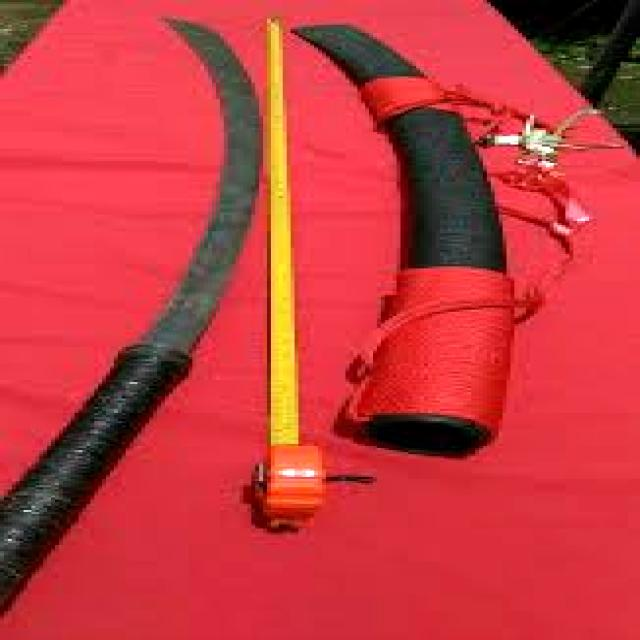long sword: (63, 11, 272, 558)
